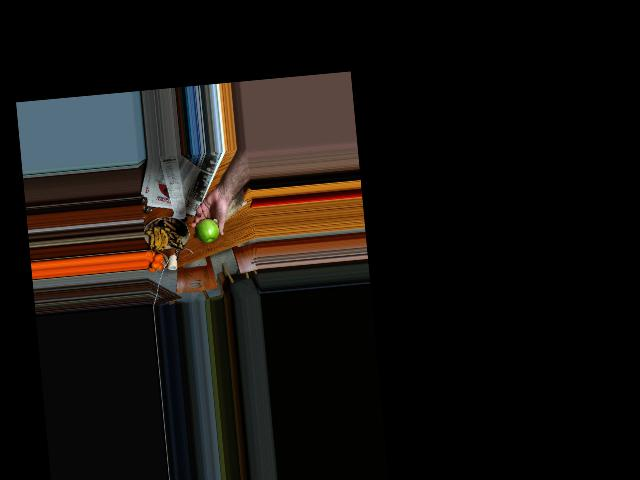apple: (194, 216, 220, 244)
